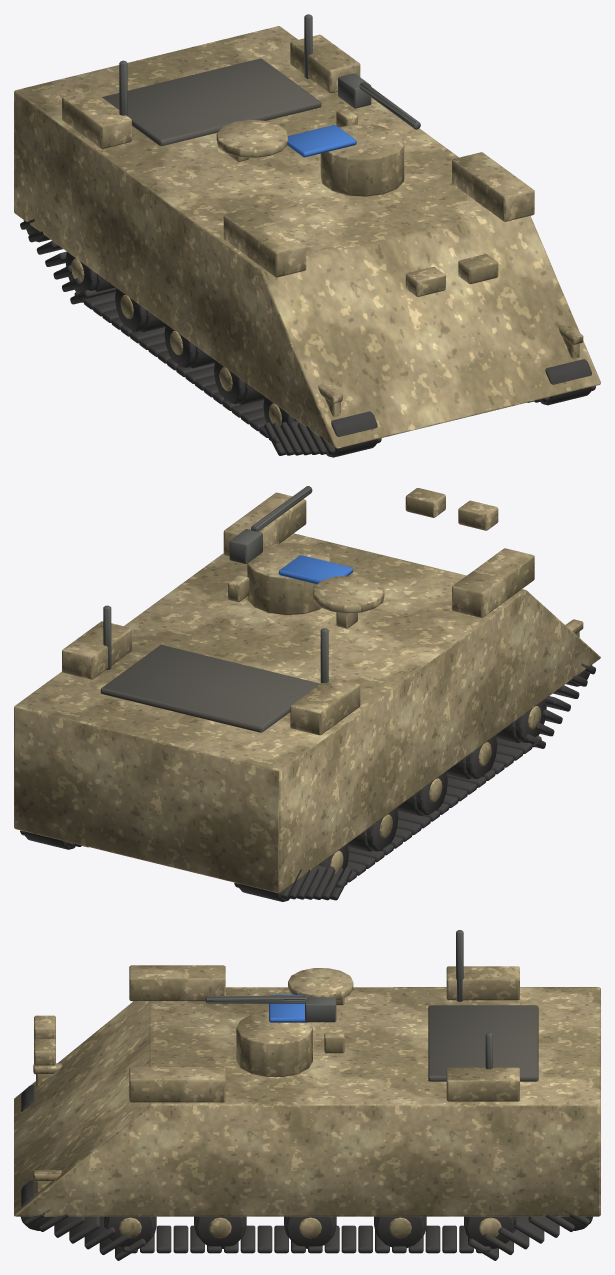
Rendered from afv_e4_us_apc_LOD0.glb.
3 renders of one model, top to bottom at view 1: azimuth 30°, elevation 25°; view 2: azimuth 150°, elevation 25°; view 3: azimuth 270°, elevation 25°, orthographic. The views are drawn at different scales.
Visible parts, largest first — view 1: afv_e4_us_apc_LOD0_body, afv_e4_us_apc_LOD0_track, afv_e4_us_apc_LOD0_deck, afv_e4_us_apc_LOD0_gun, afv_e4_us_apc_LOD0_team; view 2: afv_e4_us_apc_LOD0_body, afv_e4_us_apc_LOD0_track, afv_e4_us_apc_LOD0_deck, afv_e4_us_apc_LOD0_gun, afv_e4_us_apc_LOD0_team; view 3: afv_e4_us_apc_LOD0_body, afv_e4_us_apc_LOD0_track, afv_e4_us_apc_LOD0_deck, afv_e4_us_apc_LOD0_gun, afv_e4_us_apc_LOD0_team.
Boxes of the visible parts, x1,y1,x2,y2 form: afv_e4_us_apc_LOD0_body: (14, 26, 600, 448); afv_e4_us_apc_LOD0_track: (20, 219, 595, 457); afv_e4_us_apc_LOD0_deck: (102, 58, 321, 146); afv_e4_us_apc_LOD0_gun: (119, 14, 420, 129); afv_e4_us_apc_LOD0_team: (287, 125, 356, 157); afv_e4_us_apc_LOD0_body: (14, 488, 600, 893); afv_e4_us_apc_LOD0_track: (20, 663, 595, 901); afv_e4_us_apc_LOD0_deck: (100, 645, 319, 732); afv_e4_us_apc_LOD0_gun: (103, 486, 328, 683); afv_e4_us_apc_LOD0_team: (278, 555, 353, 584); afv_e4_us_apc_LOD0_body: (14, 965, 600, 1238); afv_e4_us_apc_LOD0_track: (21, 1084, 592, 1260); afv_e4_us_apc_LOD0_deck: (428, 1005, 538, 1081); afv_e4_us_apc_LOD0_gun: (205, 930, 492, 1069); afv_e4_us_apc_LOD0_team: (269, 995, 307, 1022).
Size of the model in its own units: 3.05 by 2.76 by 6.39.
Materials: 5 (1 with a texture image).
